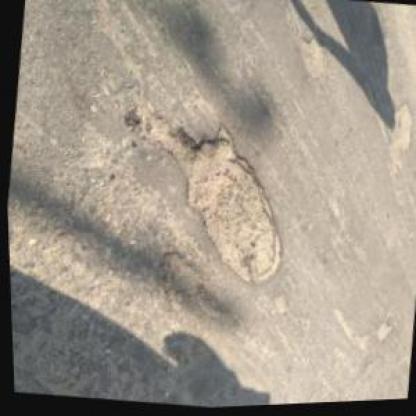pothole: (126, 106, 298, 296), (148, 248, 229, 327), (323, 301, 395, 360), (291, 33, 334, 90), (378, 104, 414, 166), (268, 294, 288, 320)
